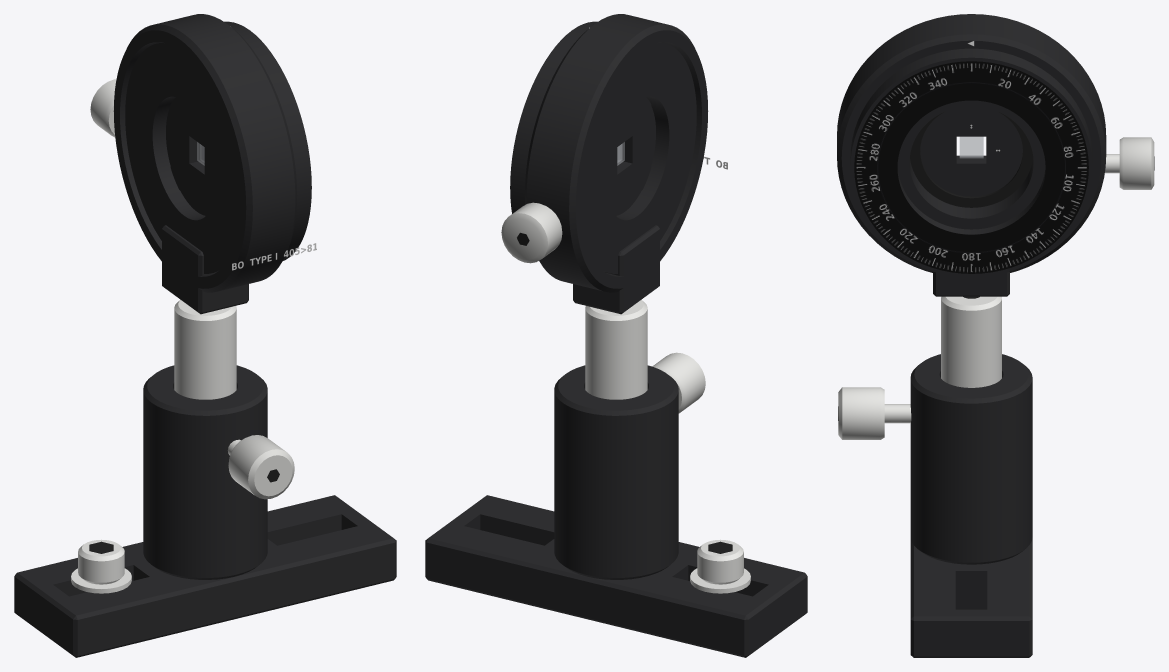
File: bbo_crystal.glb
The picture shows the model from 3 angles, left to right: view 1: azimuth 30°, elevation 25°; view 2: azimuth 150°, elevation 25°; view 3: azimuth 270°, elevation 25°; orthographic projection.
Parts seen in each view (by area): view 1: Body, Rotor, Optic; view 2: Body, Rotor, Optic; view 3: Body, Rotor, Optic.
Part boxes in pixels (x1,y1,x2,y2): Body: (14,14,396,657); Rotor: (125,21,311,273); Optic: (166,97,215,215); Body: (425,14,807,657); Rotor: (510,21,696,273); Optic: (606,97,655,215); Body: (837,14,1154,657); Rotor: (850,48,1092,277); Optic: (920,106,1022,196).
Size of the model in its own units: 0.0762 by 0.128 by 0.0663.
Materials: 11 (5 with a texture image).
